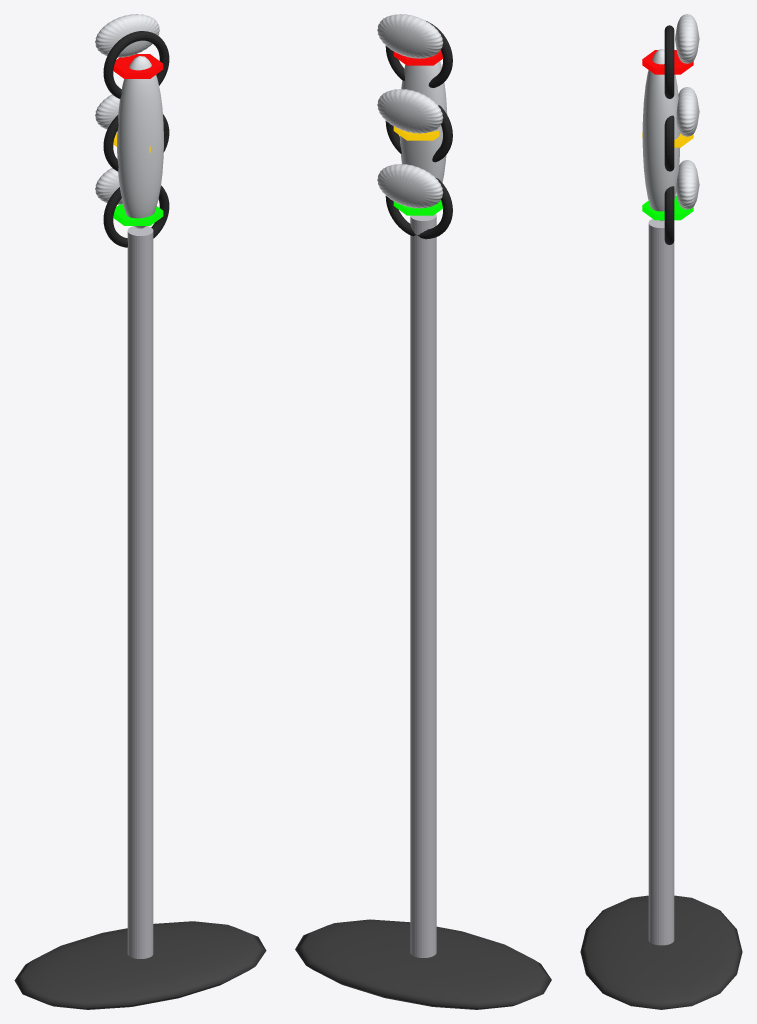
3 views of the same model, side by side, from view 1: azimuth 30°, elevation 25°; view 2: azimuth 150°, elevation 25°; view 3: azimuth 270°, elevation 25° (orthographic). The views are drawn at different scales.
Visible parts, largest first — view 1: Cylinder, Cube, Cube.001, Cylinder.001, Torus, Torus.002, Cylinder.002, Torus.001, Cylinder.005, Cylinder.003; view 2: Cylinder, Cube, Cube.001, Cylinder.003, Cylinder.005, Cylinder.001, Torus.002, Torus, Torus.001; view 3: Cylinder, Cube, Cube.001, Cylinder.001, Cylinder.003, Cylinder.005, Torus, Torus.002, Torus.001, Cylinder.002, Cylinder.006.
Boxes of the visible parts, left/top/right/bottom form: Cylinder: left=127, top=226, right=153, bottom=958; Cube: left=14, top=921, right=266, bottom=1009; Cube.001: left=117, top=56, right=163, bottom=228; Cylinder.001: left=95, top=14, right=159, bottom=57; Torus: left=103, top=31, right=169, bottom=98; Torus.002: left=103, top=185, right=169, bottom=247; Cylinder.002: left=113, top=54, right=163, bottom=78; Torus.001: left=103, top=114, right=169, bottom=171; Cylinder.005: left=95, top=168, right=122, bottom=204; Cylinder.003: left=95, top=94, right=119, bottom=129; Cylinder: left=410, top=214, right=436, bottom=957; Cube: left=295, top=919, right=551, bottom=1009; Cube.001: left=399, top=61, right=447, bottom=182; Cylinder.003: left=377, top=89, right=443, bottom=133; Cylinder.005: left=377, top=164, right=443, bottom=208; Cylinder.001: left=377, top=14, right=443, bottom=58; Torus.002: left=385, top=178, right=452, bottom=239; Torus: left=385, top=21, right=452, bottom=87; Torus.001: left=385, top=105, right=452, bottom=162; Cylinder: left=648, top=219, right=674, bottom=945; Cube: left=580, top=895, right=742, bottom=1009; Cube.001: left=642, top=49, right=680, bottom=221; Cylinder.001: left=675, top=14, right=699, bottom=63; Cylinder.003: left=676, top=87, right=699, bottom=136; Cylinder.005: left=676, top=160, right=699, bottom=209; Torus: left=664, top=25, right=674, bottom=98; Torus.002: left=664, top=186, right=674, bottom=244; Torus.001: left=664, top=115, right=674, bottom=171; Cylinder.002: left=642, top=50, right=693, bottom=74; Cylinder.006: left=642, top=195, right=693, bottom=220.
Size of the model in its own units: 0.8395 by 3.24 by 0.5037.
